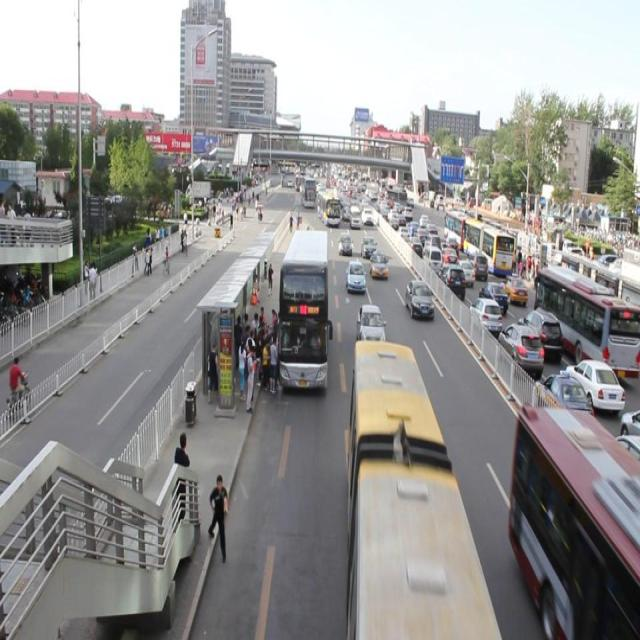car: (355, 301, 384, 343), (404, 278, 432, 316), (346, 258, 365, 290), (369, 248, 386, 277), (359, 232, 375, 255), (337, 231, 350, 253), (341, 200, 350, 222), (361, 206, 372, 224)
truck: (349, 203, 361, 227)
van: (343, 339, 500, 640), (512, 399, 640, 632), (279, 227, 329, 388), (316, 190, 340, 222)
